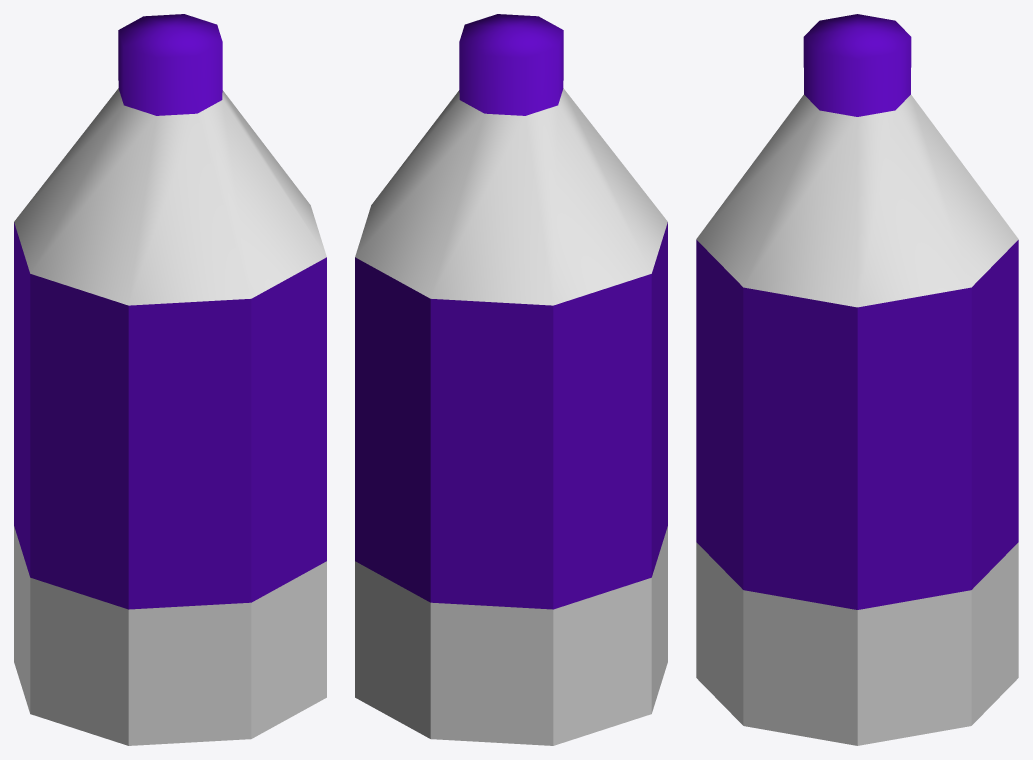
File: Bleach.fbx
3 renders of one model, left to right at view 1: azimuth 30°, elevation 25°; view 2: azimuth 150°, elevation 25°; view 3: azimuth 270°, elevation 25°, orthographic.
Parts seen in each view (by area): view 1: pCylinder1; view 2: pCylinder1; view 3: pCylinder1.
Boxes of the visible parts, <box> form: pCylinder1: <box>14,14,326,745</box>; pCylinder1: <box>355,14,667,745</box>; pCylinder1: <box>696,14,1018,745</box>.
Size of the model in its own units: 4 by 8.88 by 4.
